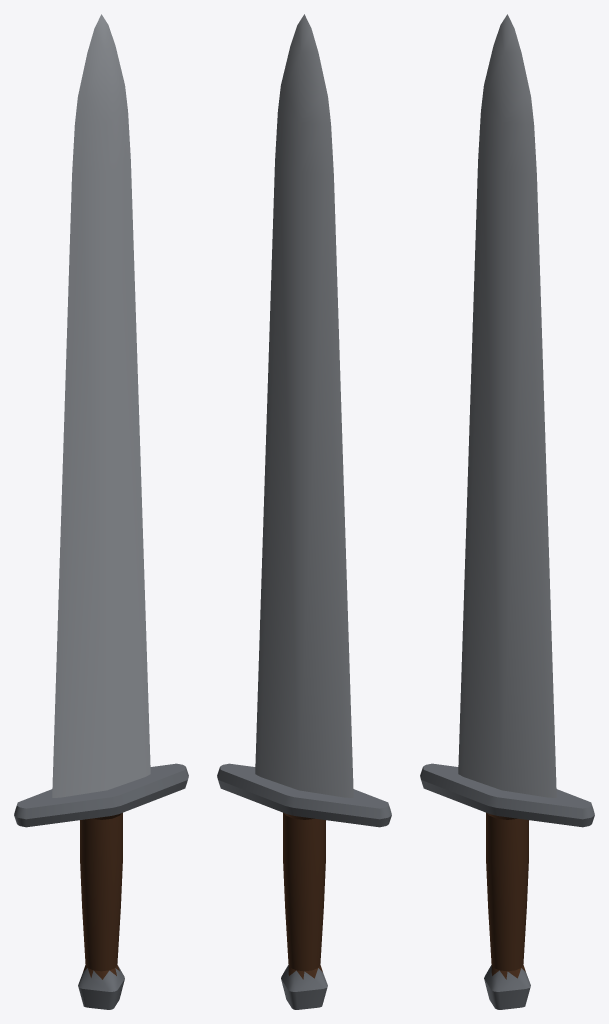
The model's file is mec.glb.
3 renders of one model, left to right at view 1: azimuth 30°, elevation 25°; view 2: azimuth 150°, elevation 25°; view 3: azimuth 330°, elevation 25°, orthographic.
Parts seen in each view (by area): view 1: mec; view 2: mec; view 3: mec.
Part boxes in pixels (box(x1,y1,x2,y2)): mec: box(14, 14, 188, 1009); mec: box(217, 14, 391, 1009); mec: box(420, 14, 594, 1009).
Size of the model in its own units: 0.2 by 1.1 by 0.0625.
